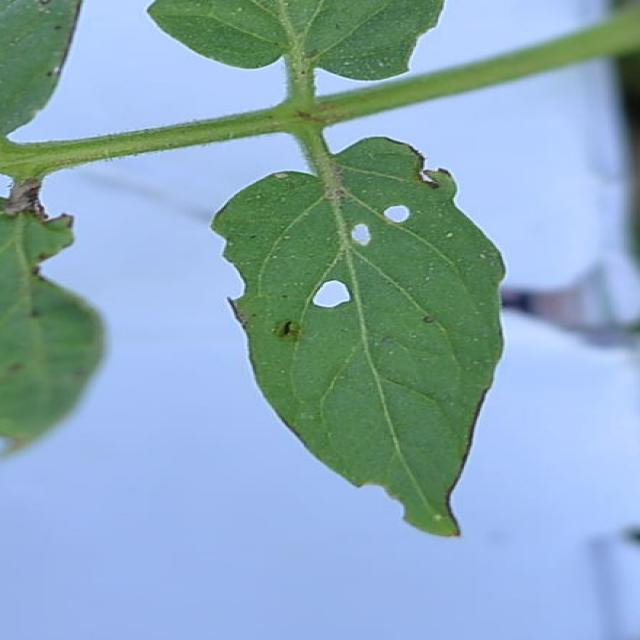infected: (223, 190, 509, 367), (3, 176, 90, 287)
